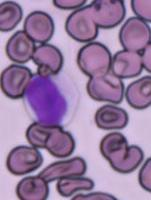L: (22, 73, 82, 127)
